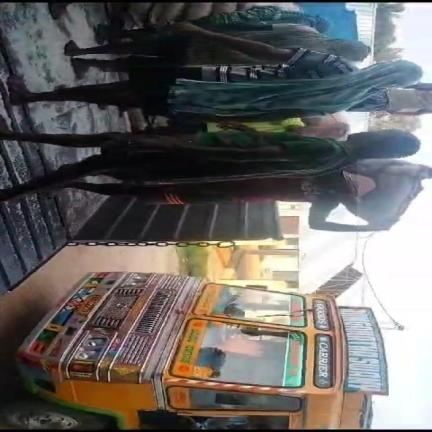Zone-Counting: (65, 159, 431, 232)
